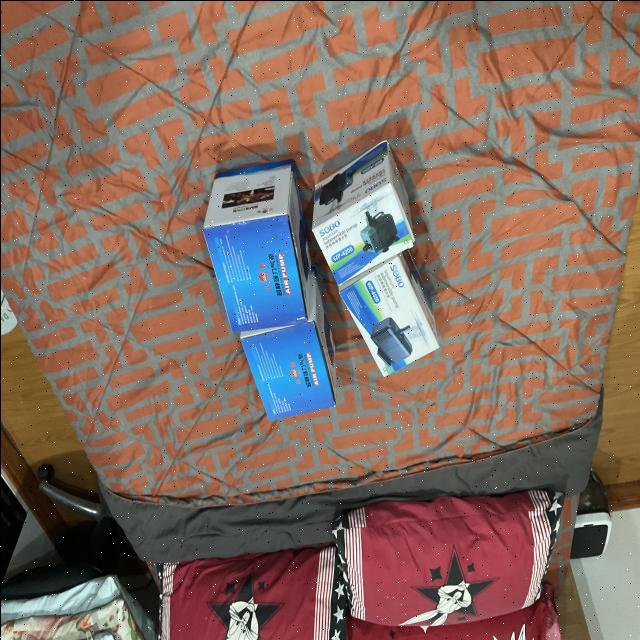SOBO_WP_4200: (310, 124, 422, 288), (335, 255, 451, 383)
YAMANO_LPP_20: (205, 134, 326, 332), (240, 259, 348, 422)
